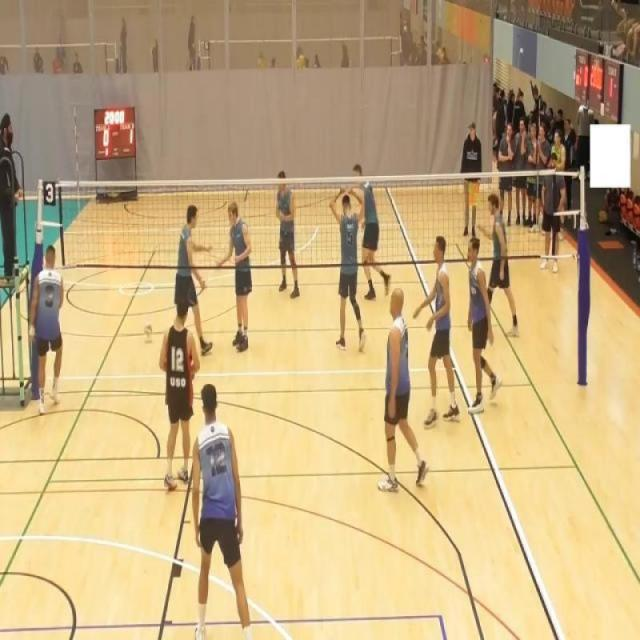volleyball: (143, 320, 153, 339)
